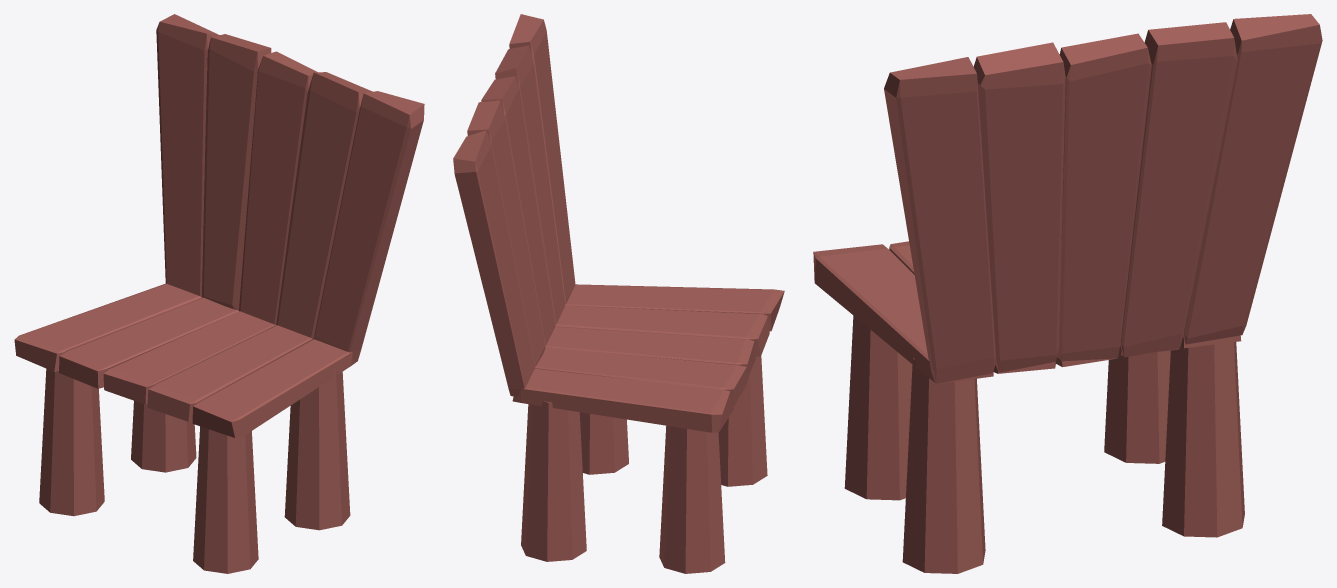
The model's file is chair.fbx.
The picture shows the model from 3 angles, left to right: view 1: azimuth 30°, elevation 25°; view 2: azimuth 150°, elevation 25°; view 3: azimuth 270°, elevation 25°; orthographic projection. The views are drawn at different scales.
Parts seen in each view (by area): view 1: Cube.001; view 2: Cube.001; view 3: Cube.001.
Boxes of the visible parts, box(x1,y1,x2,y2) form: Cube.001: box(14, 14, 424, 573); Cube.001: box(453, 14, 784, 573); Cube.001: box(813, 14, 1322, 573).
Size of the model in its own units: 341 by 435 by 373.
